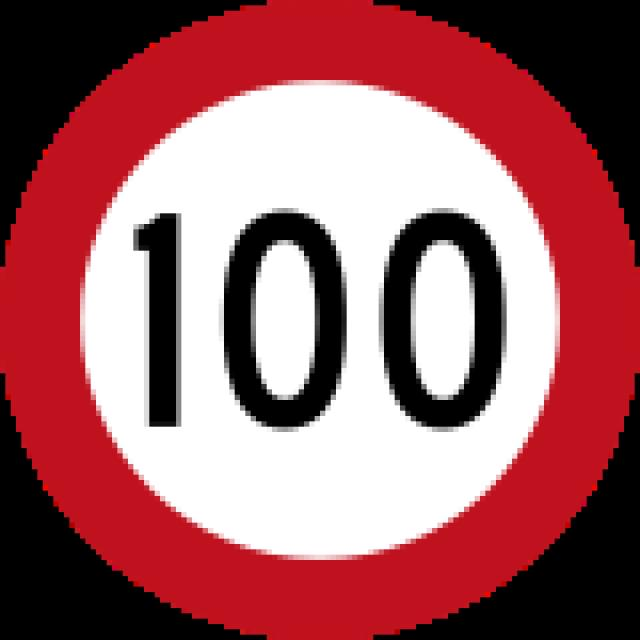Speed Limit -100-: (118, 190, 535, 448)
